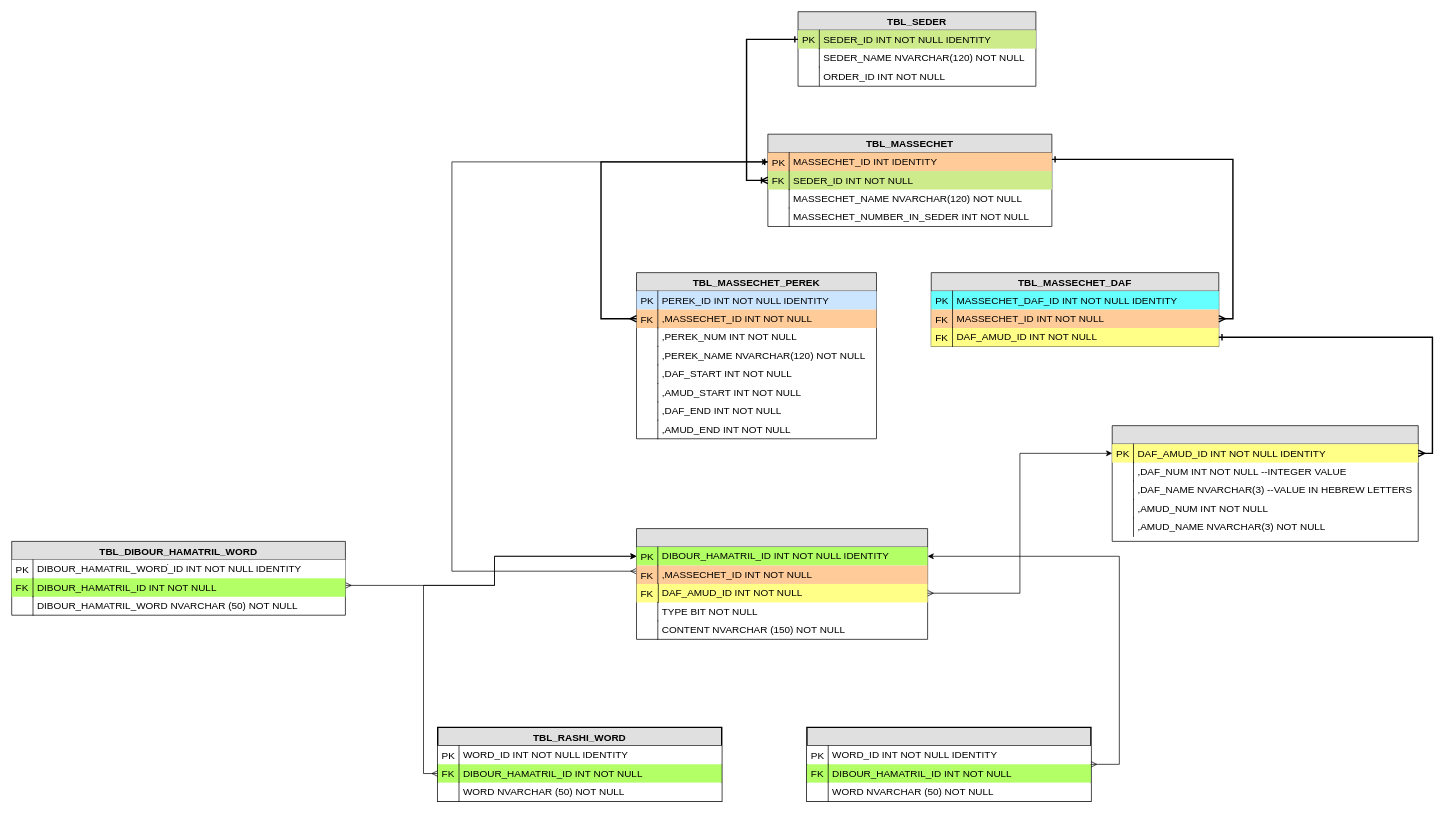
Some shapes in this 1444 by 813 pixel diagram are drawn without their labels. Here are the shapes that lost their labels. From the top down, the box of each, then its label:
(1112, 425, 1418, 541): TBL_DAF
(636, 528, 928, 639): TBL_DIBOUR_HAMATRIL
(806, 726, 1091, 802): TBL_TOSSEFOT_WORD
